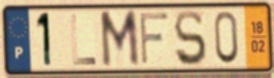0: (212, 10, 240, 66)
1: (34, 10, 54, 70)
F: (138, 10, 171, 68)
L: (69, 13, 98, 67)
M: (98, 8, 141, 71)
S: (172, 8, 209, 69)
